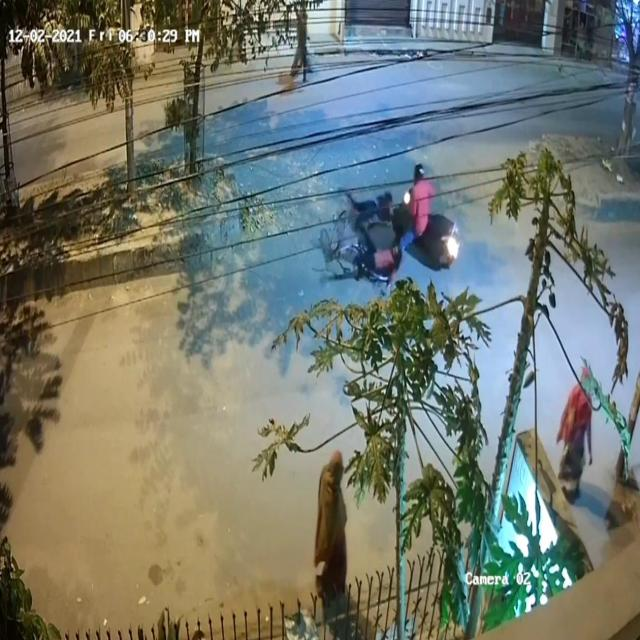accident: (320, 156, 462, 310)
